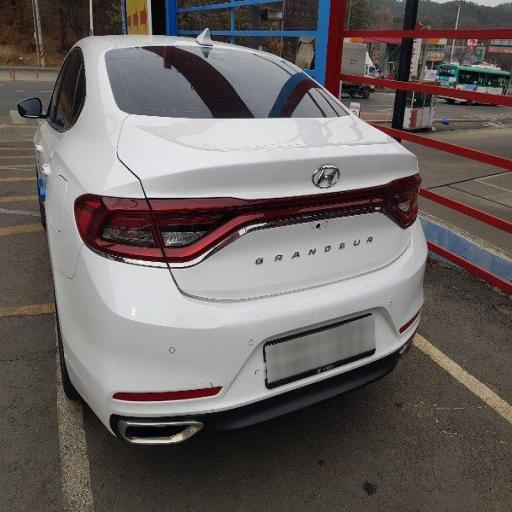dent: (134, 80, 398, 184)
